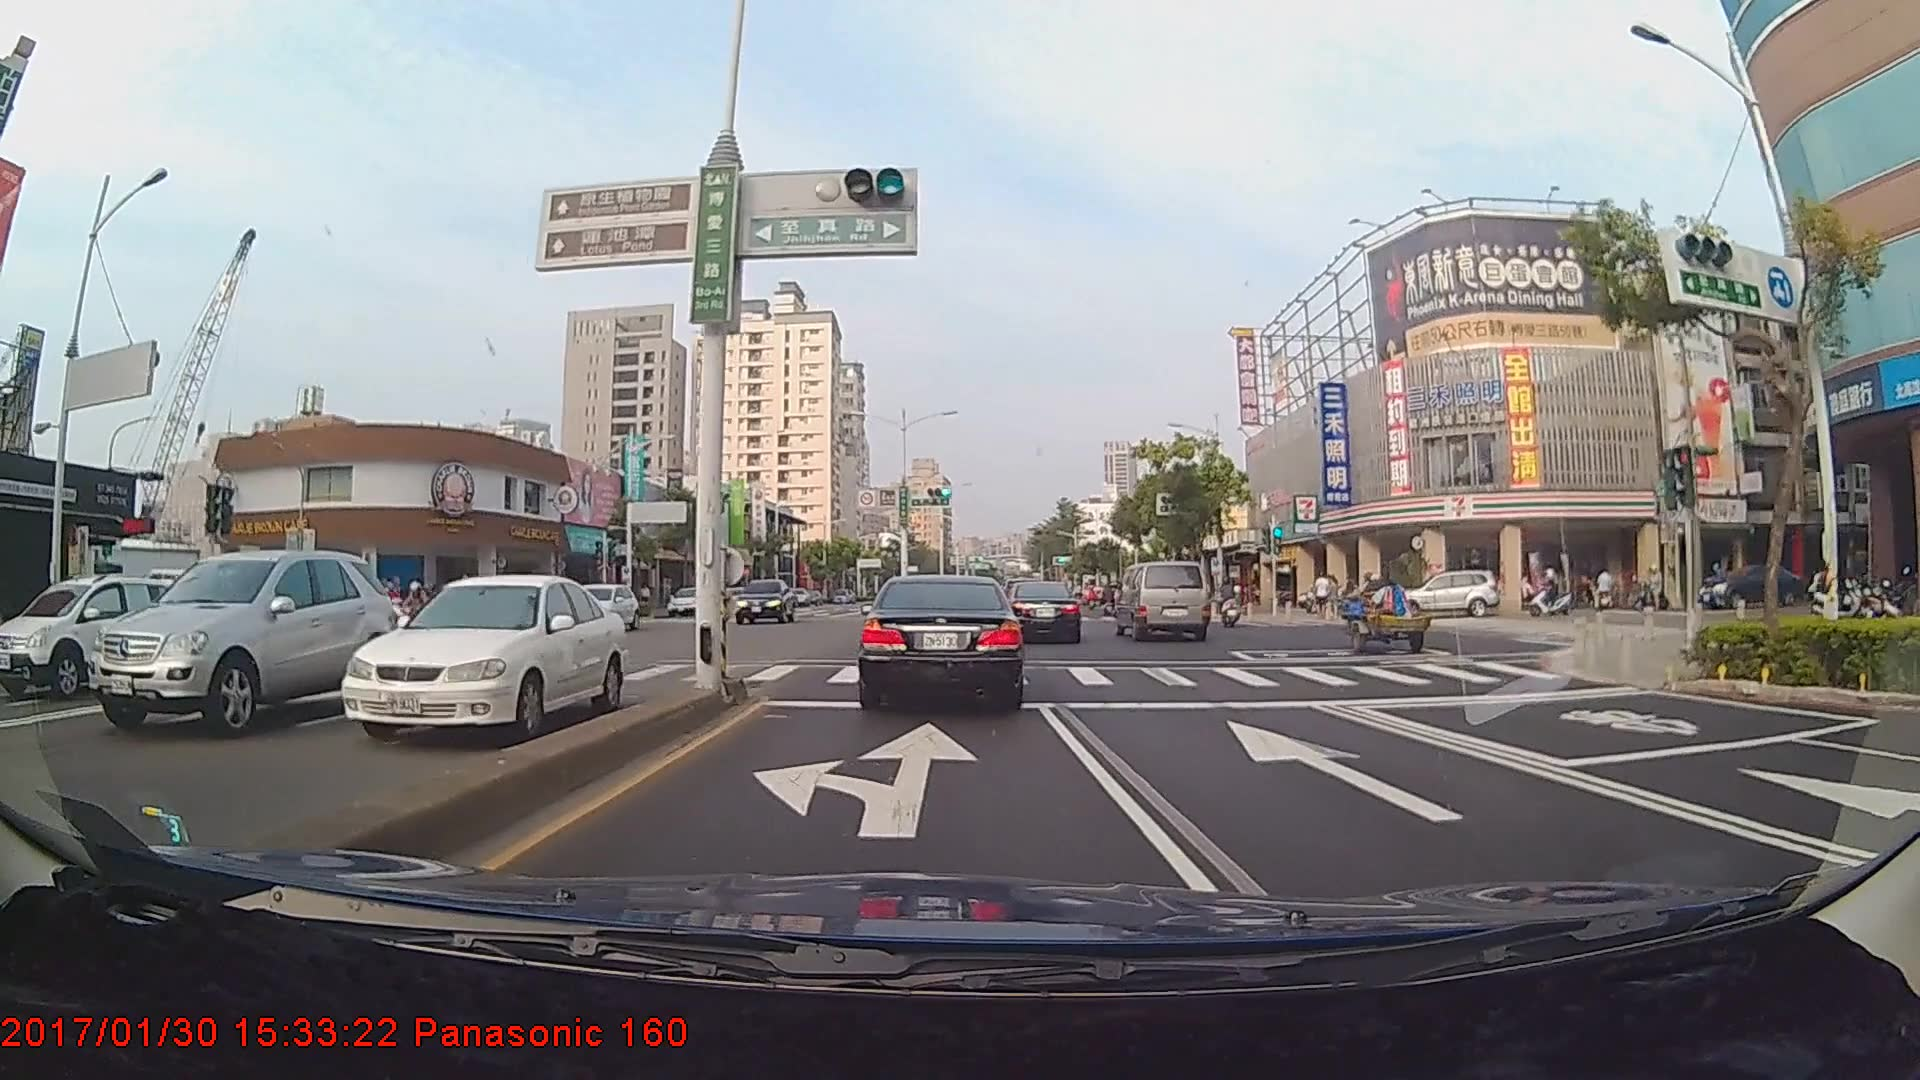pedestrian: (1312, 571, 1332, 620)
rider: (1523, 560, 1578, 620), (1211, 579, 1247, 632)
vehicle: (86, 545, 382, 736), (343, 572, 630, 736), (9, 566, 190, 704), (859, 571, 1026, 708), (1116, 560, 1210, 643), (1395, 568, 1499, 616), (1008, 581, 1082, 644), (568, 579, 638, 636), (731, 577, 796, 626), (666, 586, 706, 617)
